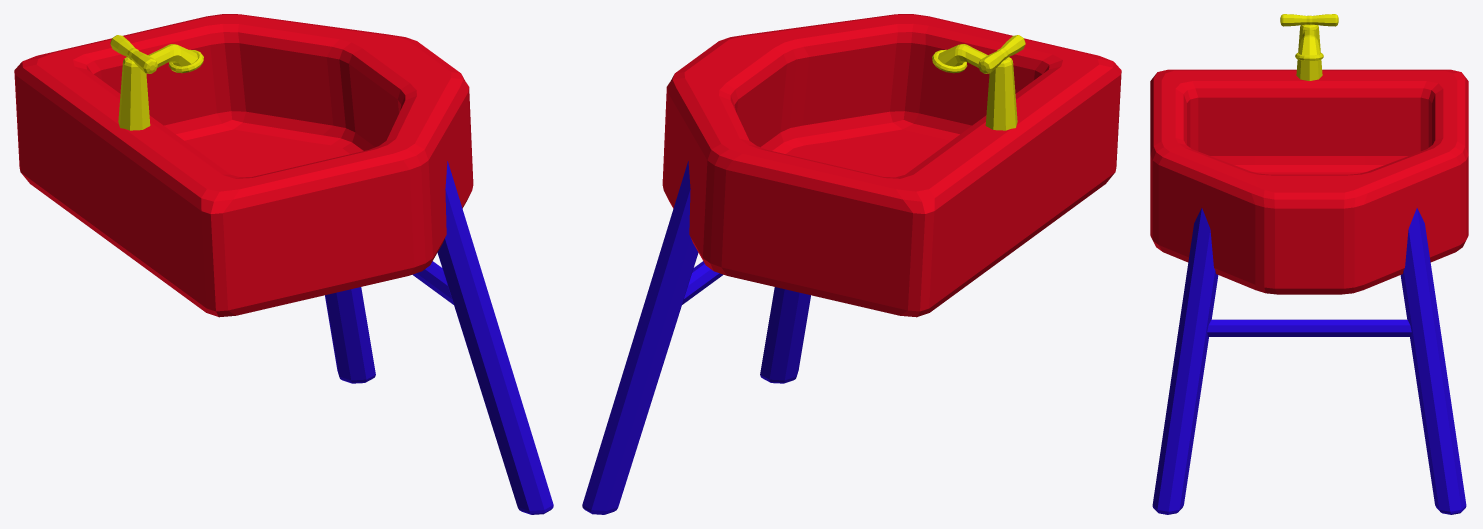
Rendered from pia.fbx.
3 views of the same model, side by side, from view 1: azimuth 30°, elevation 25°; view 2: azimuth 150°, elevation 25°; view 3: azimuth 270°, elevation 25° (orthographic). The views are drawn at different scales.
Parts seen in each view (by area): view 1: pia; view 2: pia; view 3: pia.
Boxes of the visible parts, x1,y1,x2,y2 form: pia: (14,14,553,514); pia: (582,14,1121,514); pia: (1150,14,1468,514).
Size of the model in its own units: 0.8873 by 1.13 by 0.8698.
